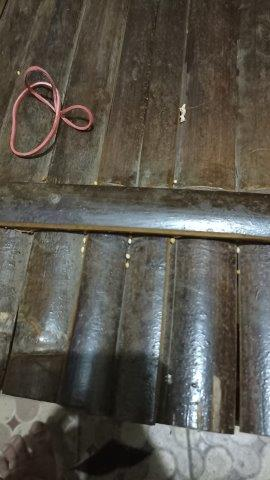karet: (10, 66, 93, 157)
